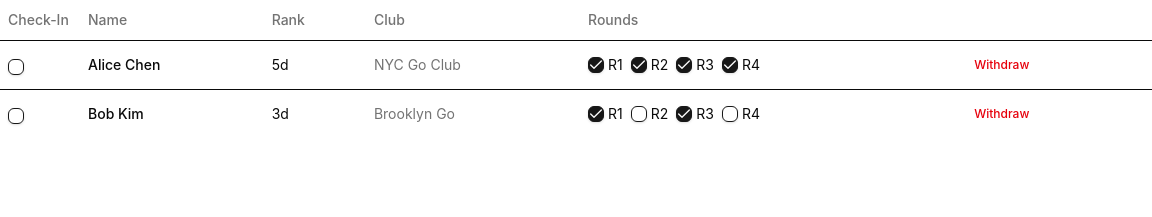
Test: RegistrationTable › round checkboxes › removes override when toggling back to server state
This screenshot has width=1152, height=217.
# Uncheck then re-check R4 for Alice
Step 1. Click the checkbox named "R4 for Alice Chen" → (730, 64), box top-left (722, 56), bottom-right (738, 72)
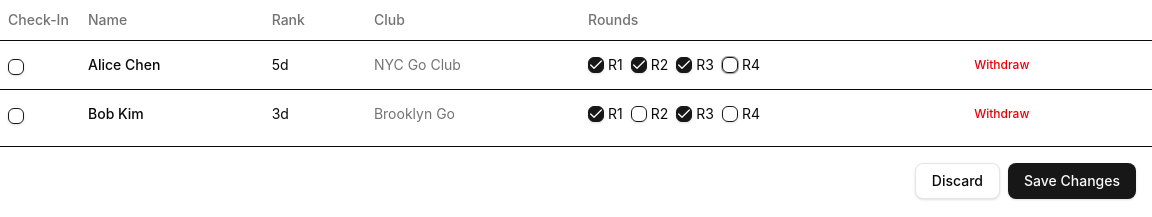
Now the button "Save Changes" is shown, box top-left (1008, 162), bottom-right (1136, 198)
Step 2. Click the checkbox named "R4 for Alice Chen" → (730, 64), box top-left (722, 56), bottom-right (738, 72)
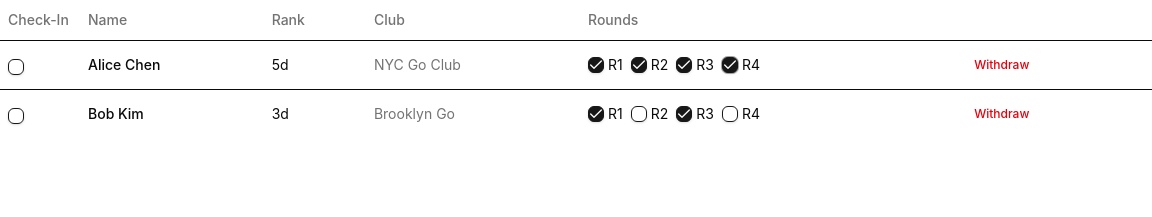
Now the button "Save Changes" is gone
